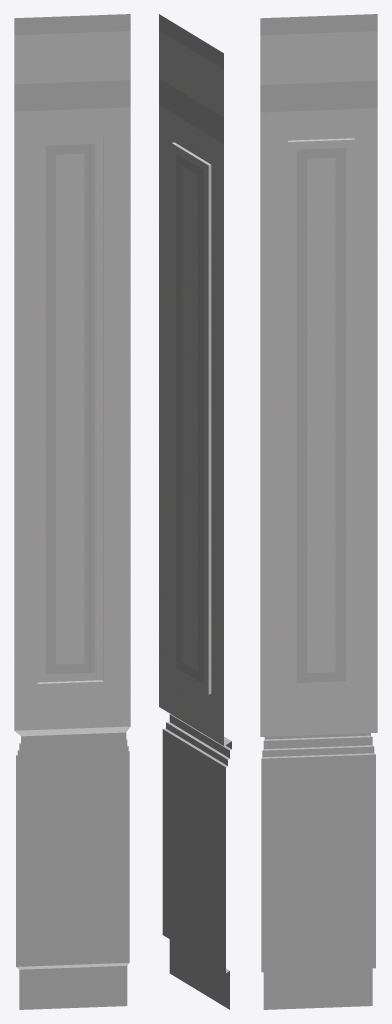
The model's file is SM_Wall_Pattern_11.fbx.
The picture shows the model from 3 angles, left to right: view 1: azimuth 90°, elevation 25°; view 2: azimuth 210°, elevation 25°; view 3: azimuth 270°, elevation 25°; orthographic projection. The views are drawn at different scales.
Parts seen in each view (by area): view 1: SM_Wall_Pattern_11; view 2: SM_Wall_Pattern_11; view 3: SM_Wall_Pattern_11.
Boxes of the visible parts, box(x1,y1,x2,y2) form: SM_Wall_Pattern_11: box(14, 14, 130, 1009); SM_Wall_Pattern_11: box(159, 14, 231, 1009); SM_Wall_Pattern_11: box(260, 14, 377, 1009).
Size of the model in its own units: 14.1 by 67.71 by 633.
